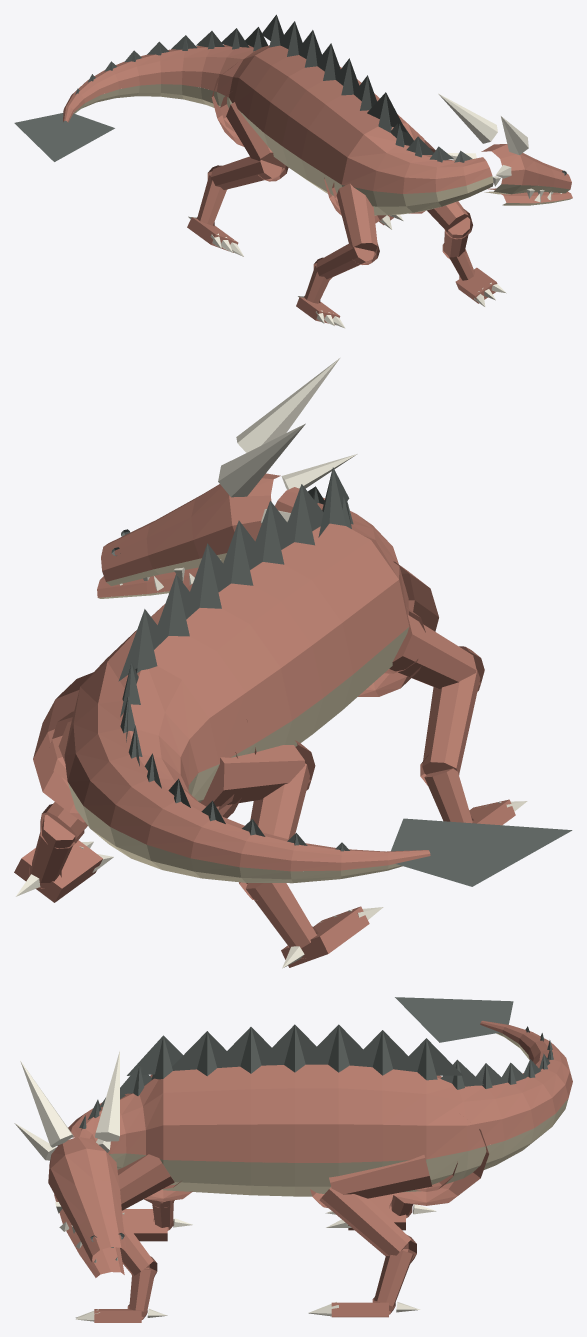
The model's file is dragons-and-wyverns-drake-asleep-ce75c6fa__36730.glb.
3 renders of one model, top to bottom at view 1: azimuth 30°, elevation 25°; view 2: azimuth 150°, elevation 25°; view 3: azimuth 270°, elevation 25°, orthographic. The views are drawn at different scales.
Parts seen in each view (by area): view 1: drake-asleep; view 2: drake-asleep; view 3: drake-asleep.
Part boxes in pixels (box(x1,y1,x2,y2)): drake-asleep: box(14, 14, 572, 328); drake-asleep: box(14, 358, 572, 968); drake-asleep: box(14, 997, 572, 1322).
Bounding box in the file's own units: 1.75 × 0.9138 × 1.79.
